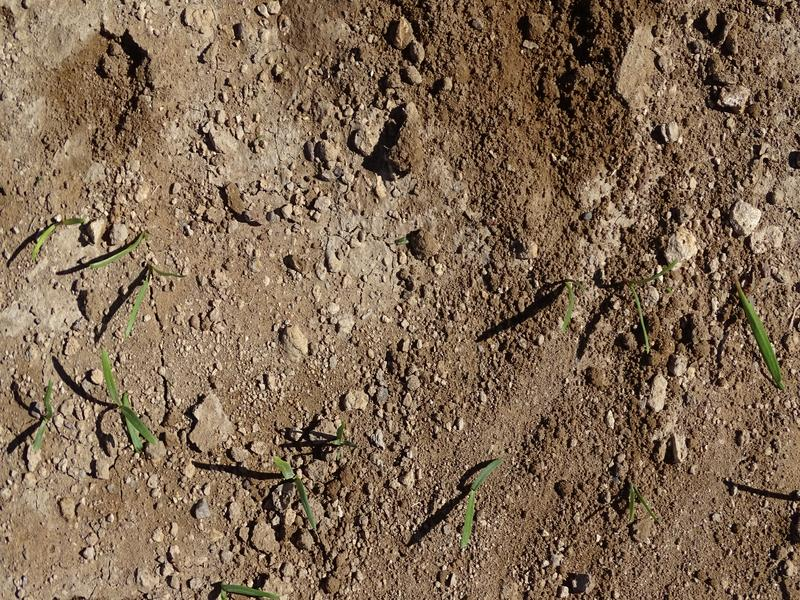Espinaca: (728, 267, 787, 392), (87, 350, 158, 451), (116, 252, 186, 337), (450, 453, 508, 553), (81, 232, 149, 271)
